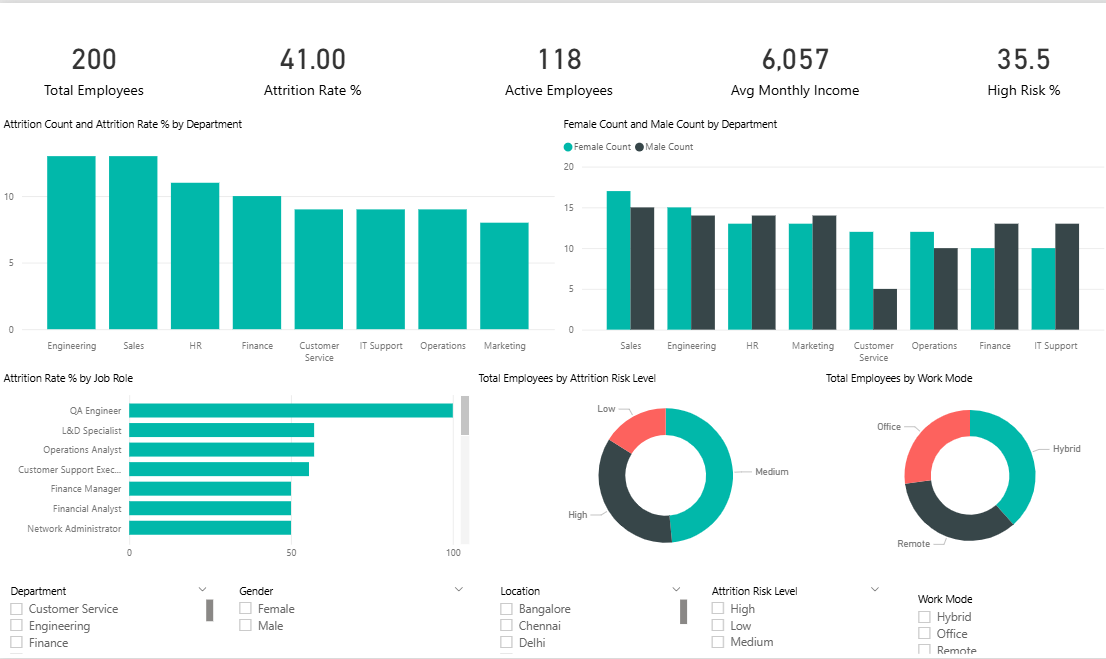

Layout of this report page (visuals, bound fields, positions):
{"tool":"powerbi","page":{"name":"HR Workforce Overview","canvas":[1280,720],"ordinal":0},"visuals":[{"type":"card","fields":{"Values":["_Measures.Total Employees"]},"box":[0,0,217.1,87.1],"z":0},{"type":"card","fields":{"Values":["_Measures.Attrition Rate %"]},"box":[250,0,217.1,87.1],"z":1000},{"type":"card","fields":{"Values":["_Measures.Active Employees"]},"box":[531.4,0,217.1,87.1],"z":2000},{"type":"card","fields":{"Values":["_Measures.Avg Monthly Income"]},"box":[801.4,0,217.1,87.1],"z":3000},{"type":"card","fields":{"Values":["_Measures.High Risk %"]},"box":[1062.9,0,217.1,87.1],"z":4000},{"type":"clusteredColumnChart","fields":{"Category":["HR_Data.Department"],"Y":["_Measures.Attrition Count"]},"box":[0,101.4,640,290],"z":5000},{"type":"donutChart","fields":{"Category":["HR_Data.Attrition Risk Level"],"Y":["_Measures.Total Employees"]},"box":[542.9,391.4,438.6,224.3],"z":6000},{"type":"clusteredBarChart","fields":{"Y":["_Measures.Attrition Rate %"],"Category":["HR_Data.Job Role"]},"box":[0,391.4,542.9,225.7],"z":7000},{"type":"clusteredColumnChart","fields":{"Category":["HR_Data.Department"],"Y":["_Measures.Female Count","_Measures.Male Count"]},"box":[640,101.4,628.6,290],"z":8000},{"type":"donutChart","fields":{"Category":["HR_Data.Work Mode"],"Y":["_Measures.Total Employees"]},"box":[940,391.4,340,224.3],"z":9000},{"type":"slicer","fields":{"Values":["HR_Data.Gender"]},"box":[261.4,630,281.4,90],"z":10000},{"type":"slicer","fields":{"Values":["HR_Data.Department"]},"box":[0,630,250,90],"z":11000},{"type":"slicer","fields":{"Values":["HR_Data.Work Mode"]},"box":[1037.1,640,242.9,80],"z":12000},{"type":"slicer","fields":{"Values":["HR_Data.Location"]},"box":[560,630,231.4,90],"z":13000},{"type":"slicer","fields":{"Values":["HR_Data.Attrition Risk Level"]},"box":[801.4,630,217.1,90],"z":14000}]}

Visuals, with their boxes on the page's 1280x720 design canvas (x1, y1, x2, y2). These are canvas units, not pixel positions in the 1106x659 screenshot, which may show the page scaled, cropped or inside an application window:
card - _Measures.Total Employees: [x1=0, y1=0, x2=217, y2=87]
card - _Measures.Attrition Rate %: [x1=250, y1=0, x2=467, y2=87]
card - _Measures.Active Employees: [x1=531, y1=0, x2=748, y2=87]
card - _Measures.Avg Monthly Income: [x1=801, y1=0, x2=1018, y2=87]
card - _Measures.High Risk %: [x1=1063, y1=0, x2=1280, y2=87]
clusteredColumnChart - HR_Data.Department x _Measures.Attrition Count: [x1=0, y1=101, x2=640, y2=391]
donutChart - HR_Data.Attrition Risk Level x _Measures.Total Employees: [x1=543, y1=391, x2=982, y2=616]
clusteredBarChart - _Measures.Attrition Rate % x HR_Data.Job Role: [x1=0, y1=391, x2=543, y2=617]
clusteredColumnChart - HR_Data.Department x _Measures.Female Count: [x1=640, y1=101, x2=1269, y2=391]
donutChart - HR_Data.Work Mode x _Measures.Total Employees: [x1=940, y1=391, x2=1280, y2=616]
slicer - HR_Data.Gender: [x1=261, y1=630, x2=543, y2=720]
slicer - HR_Data.Department: [x1=0, y1=630, x2=250, y2=720]
slicer - HR_Data.Work Mode: [x1=1037, y1=640, x2=1280, y2=720]
slicer - HR_Data.Location: [x1=560, y1=630, x2=791, y2=720]
slicer - HR_Data.Attrition Risk Level: [x1=801, y1=630, x2=1018, y2=720]
